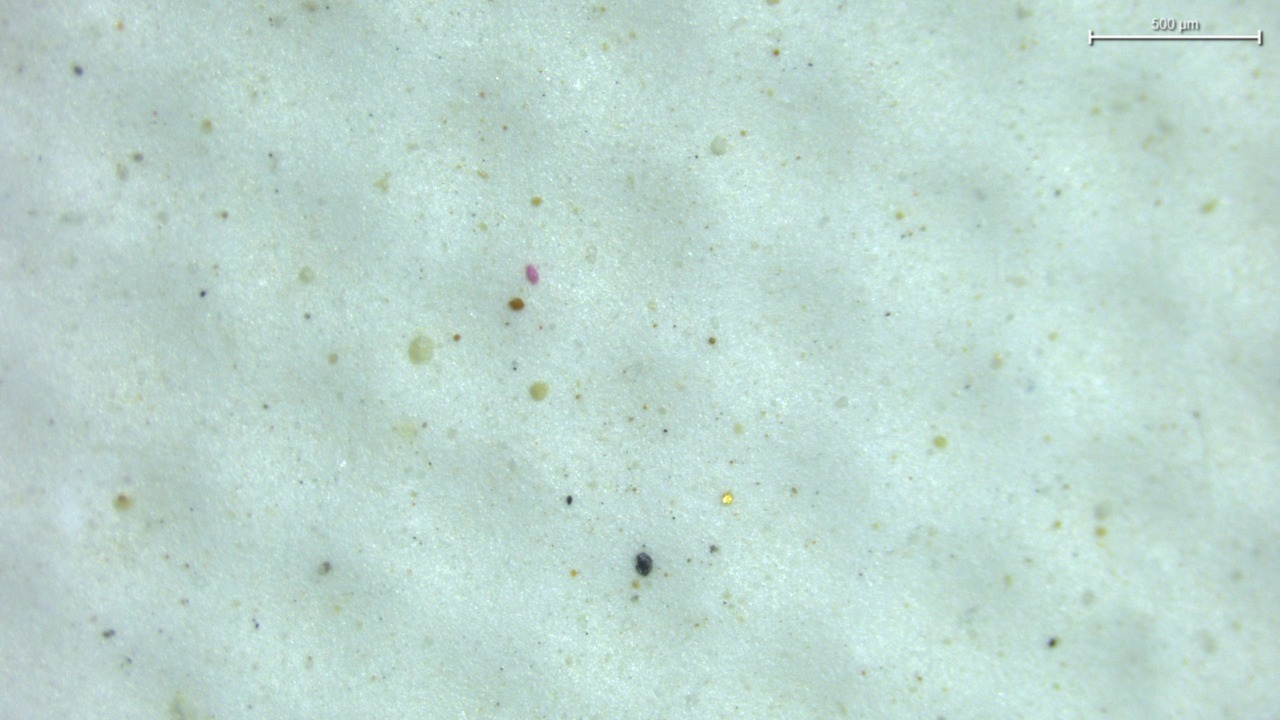microplastic_fragment: (525, 265, 539, 284), (721, 491, 734, 505)
